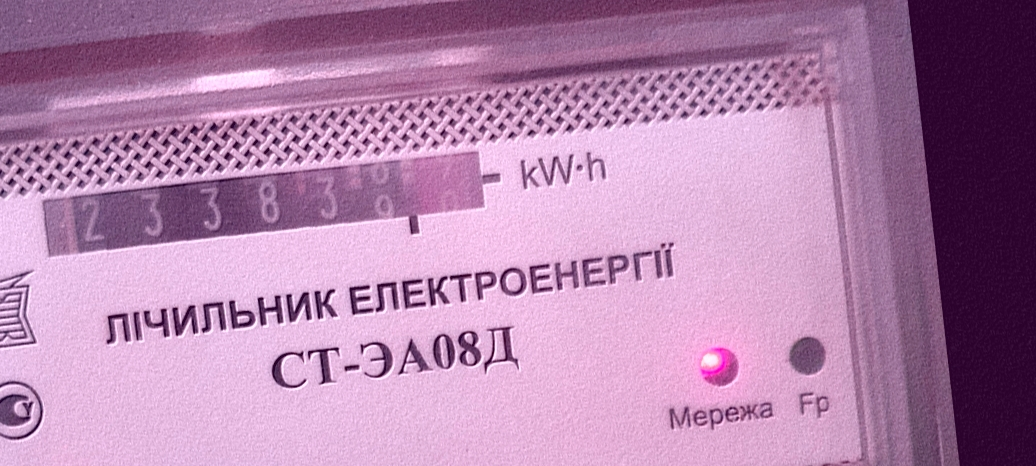0: (439, 188, 464, 216)
2: (79, 197, 108, 246)
3: (194, 184, 229, 235), (137, 189, 170, 241), (314, 174, 342, 222)
8: (254, 179, 286, 227), (369, 160, 394, 189)
9: (434, 152, 459, 184), (373, 192, 397, 223)
screen: (30, 139, 510, 281)
